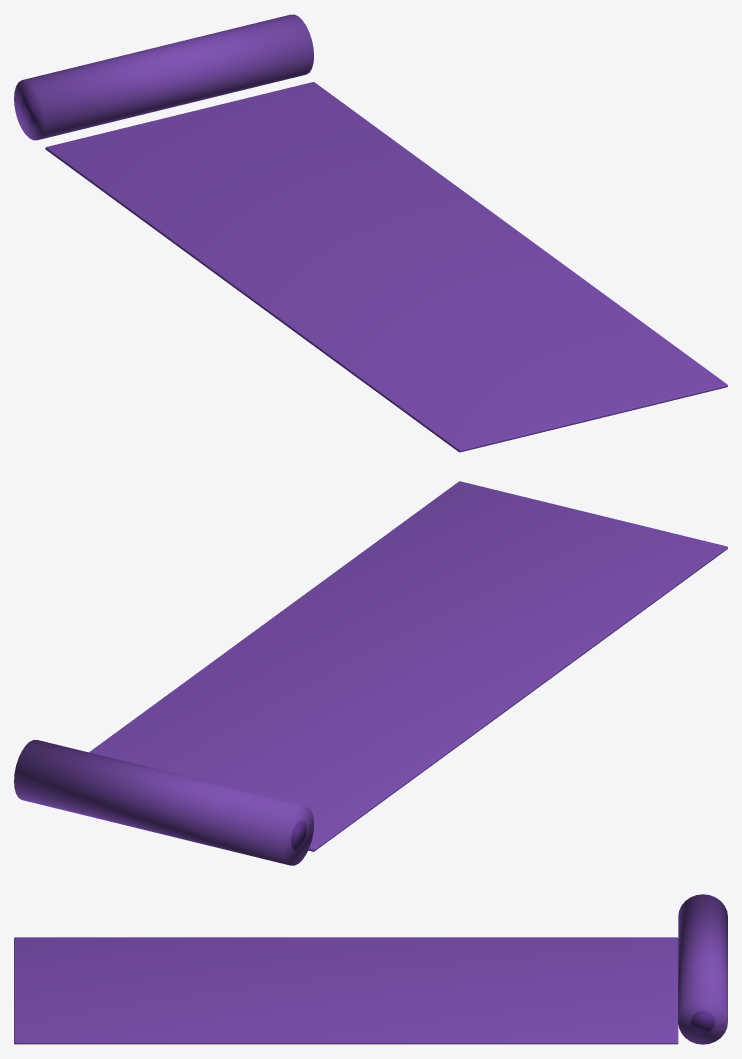
File: yoga_mat.glb
3 views of the same model, one above another, from view 1: azimuth 30°, elevation 25°; view 2: azimuth 150°, elevation 25°; view 3: azimuth 270°, elevation 25° (orthographic). The views are drawn at different scales.
Visible parts, largest first — view 1: yoga_mat; view 2: yoga_mat; view 3: yoga_mat.
Part boxes in pixels (x1,y1,x2,y2): yoga_mat: [14, 14, 727, 452]; yoga_mat: [14, 481, 727, 865]; yoga_mat: [14, 894, 727, 1044].
Bounding box in the file's own units: 0.602 × 0.12 × 1.72.
